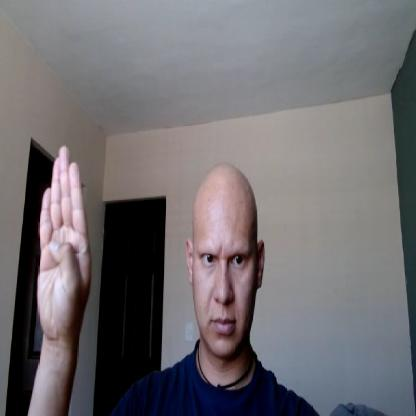B: (37, 145, 91, 334)
